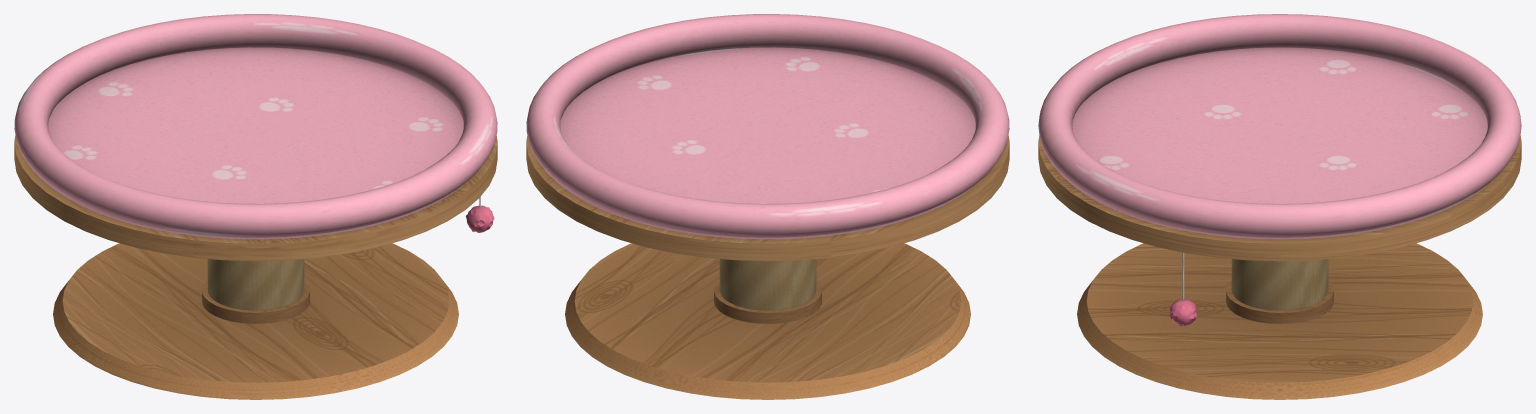
File: tower_stool.glb
3 renders of one model, left to right at view 1: azimuth 30°, elevation 25°; view 2: azimuth 150°, elevation 25°; view 3: azimuth 270°, elevation 25°, orthographic.
Parts seen in each view (by area): view 1: tower_stool; view 2: tower_stool; view 3: tower_stool.
Part boxes in pixels (x1,y1,x2,y2): tower_stool: (14, 14, 497, 399); tower_stool: (526, 14, 1009, 399); tower_stool: (1038, 14, 1521, 399).
Bounding box in the file's own units: 1 × 0.465 × 1.
1 material, 1 textured.
